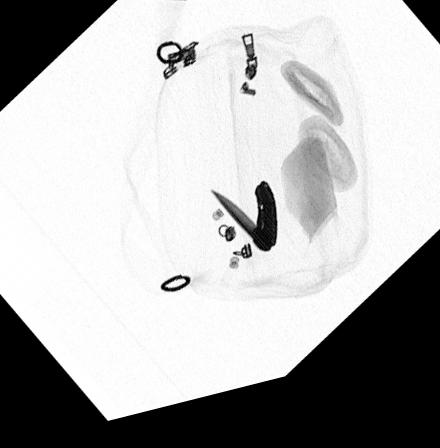Knife: (206, 191, 278, 266)
